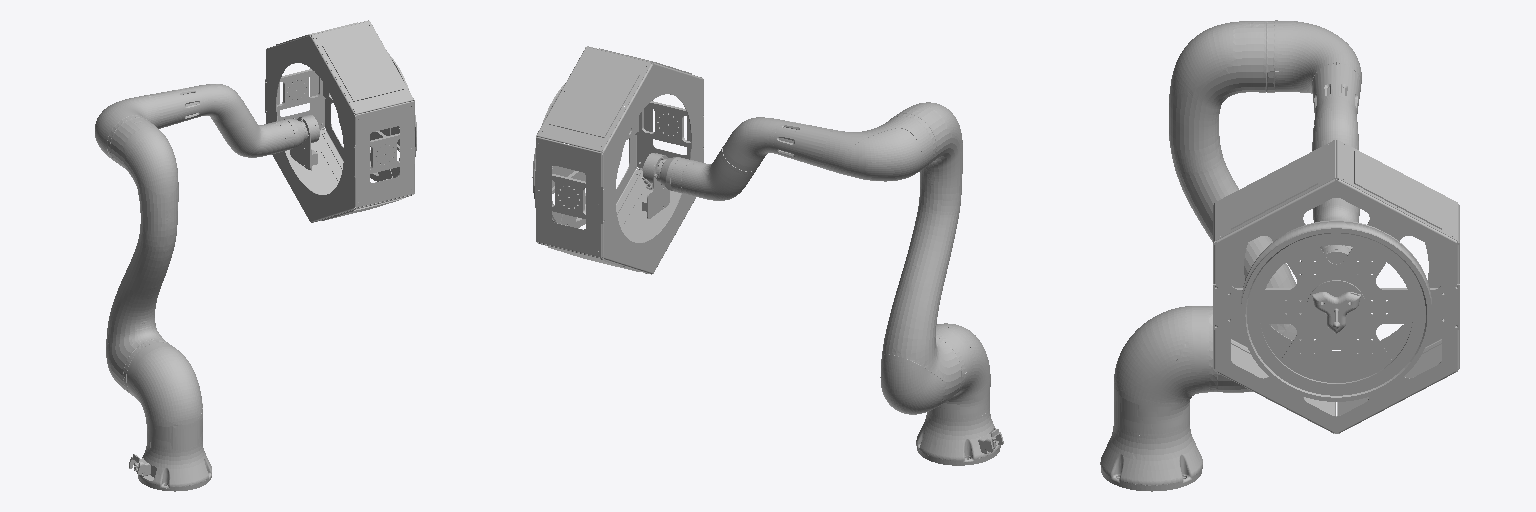
robot.urdf — yl102_sat_core:
<?xml version="1.0" encoding="utf-8"?>

<robot name="yl102_sat_core">
<link name="world"/>
  <link name="link0">

                      
    <inertial>
      <origin xyz="0.000247812 0.000247476 0.0505918" rpy="0 0 0" />
      <mass value="4.59375" />
      <inertia ixx="0.0152439" ixy="0.000200106" ixz="0.000124082" iyy="0.0273594" iyz="1.06874e-05" izz="0.0370589" />
    </inertial>
    <visual>
      <origin xyz="0 0 0" rpy="0 0 0" />
      <geometry>
        <mesh filename="meshes/link0.stl"    />
      </geometry>
      <material name="">
        <color rgba="0.75294 0.75294 0.75294 1" />
      </material>
    </visual>
    <collision>
      <origin xyz="0 0 0" rpy="0 0 0" />
      <geometry>
        <mesh filename="meshes/link0.stl"    />
      </geometry>
    </collision>
  </link>

  <link name="link1">
    <inertial>
    <origin xyz="0.000142015 0.0285074 0.119455" rpy="0 0 0" />
    <mass value="10.51657" />
    <inertia ixx="0.0551209" ixy="-5.13223e-05" ixz="-4.83089e-05" iyy="0.0494305" iyz="-0.0110939" izz="0.0363787" />
  </inertial>
    <visual>
      <origin xyz="0 0 0" rpy="0 0 0" />
      <geometry>
        <mesh filename="meshes/link1.stl"    />
      </geometry>
      <material name="">
        <color rgba="0.75294 0.75294 0.75294 1" />
      </material>
    </visual>
    <collision>
      <origin xyz="0 0 0" rpy="0 0 0" />
      <geometry>
        <mesh filename="meshes/link1.stl"    />
      </geometry>
    </collision>
  </link>

  <link name="link2">
<inertial>
  <origin xyz="0.297682 0.000392564 0.0575885" rpy="0 0 0" />
  <mass value="13.550371" />
  <inertia ixx="0.102354" ixy="0.147595" ixz="0.00104147" iyy="1.48599" iyz="-0.000372513" izz="1.43248" />
</inertial>
    <visual>
      <origin xyz="0 0 0" rpy="0 0 0" />
      <geometry>
        <mesh filename="meshes/link2.stl"    />
      </geometry>
      <material name="">
        <color rgba="0.75294 0.75294 0.75294 1" />
      </material>
    </visual>
    <collision>
      <origin xyz="0 0 0" rpy="0 0 0" />
      <geometry>
        <mesh filename="meshes/link2.stl"    />
      </geometry>
    </collision>
  </link>

  <link name="link3">

<inertial>
  <origin xyz="0.0320635 0.000171503 0.0829559" rpy="0 0 0" />
  <mass value="5.290133" />
  <inertia ixx="0.0153011" ixy="-0.00582277" ixz="2.85545e-05" iyy="0.022998" iyz="-2.03293e-05" izz="0.0180684" />
</inertial>
    <visual>
      <origin xyz="0 0 0" rpy="0 0 0" />
      <geometry>
        <mesh filename="meshes/link3.stl"    />
      </geometry>
      <material name="">
        <color rgba="0.75294 0.75294 0.75294 1" />
      </material>
    </visual>
    <collision>
      <origin xyz="0 0 0" rpy="0 0 0" />
      <geometry>
        <mesh filename="meshes/link3.stl"    />
      </geometry>
    </collision>
  </link>

  <link name="link4">
<inertial>
  <origin xyz="0.013664 -0.000984818 0.150329" rpy="0 0 0" />
  <mass value="3.595617" />
  <inertia ixx="0.0268371" ixy="-0.0043623" ixz="2.99902e-05" iyy="0.0282347" iyz="0.000149903" izz="0.00518421" />
</inertial>

    <visual>
      <origin xyz="0 0 0" rpy="0 0 0" />
      <geometry>
        <mesh filename="meshes/link4.stl"    />
      </geometry>
      <material name="">
        <color rgba="0.75294 0.75294 0.75294 1" />
      </material>
    </visual>
    <collision>
      <origin xyz="0 0 0" rpy="0 0 0" />
      <geometry>
        <mesh filename="meshes/link4.stl"    />
      </geometry>
    </collision>
  </link>

  <link name="link5">
<inertial>
  <origin xyz="0.015522 0.000368096 0.0840352" rpy="0 0 0" />
  <mass value="2.643843" />
  <inertia ixx="0.00606419" ixy="-0.0016915" ixz="-1.2174e-05" iyy="0.00720539" iyz="-2.18997e-05" izz="0.00353509" />
</inertial>
    <visual>
      <origin xyz="0 0 0" rpy="0 0 0" />
      <geometry>
        <mesh filename="meshes/link5.stl"    />
      </geometry>
      <material name="">
        <color rgba="0.75294 0.75294 0.75294 1" />
      </material>
    </visual>
    <collision>
      <origin xyz="0 0 0" rpy="0 0 0" />
      <geometry>
        <mesh filename="meshes/link5.stl"    />
      </geometry>
    </collision>
  </link>

  <link name="link6">
  <inertial>
    <origin xyz="0.000133705 -0.000192709 0.0334362" rpy="0 0 0" />
    <mass value="1.094456" />
    <inertia ixx="0.000502088" ixy="-4.44825e-07" ixz="2.32639e-07" iyy="0.000502074" iyz="-3.01736e-07" izz="0.000531034" />
  </inertial>
    <visual>
      <origin xyz="0 0 0" rpy="0 0 0" />
      <geometry>
        <mesh filename="meshes/link6.stl"    />
      </geometry>
      <material name="">
        <color rgba="0.75294 0.75294 0.75294 1" />
      </material>
    </visual>
    <collision>
      <origin xyz="0 0 0" rpy="0 0 0" />
      <geometry>
        <mesh filename="meshes/link6.stl"    />
      </geometry>
    </collision>
  </link>

 

  <link name="link_flange">
  <inertial>
    <origin xyz="-0.03225391 -0.0007543 0.02048268" rpy="0 0 0" />
    <mass value="0.71" />
    <inertia ixx="0.00052611" ixy="-0.00002865" ixz="0.00005824" iyy="0.00131947" iyz="0.00001746" izz="0.00166657" />
  </inertial>
    <visual>
      <origin xyz="0 0 0" rpy="0 0 0" />
      <geometry>
        <mesh filename="meshes/link_FT.stl"    />
      </geometry>
      <material name="">
        <color rgba="0.75294 0.75294 0.75294 1" />
      </material>
    </visual>
    <collision>
      <origin xyz="0 0 0" rpy="0 0 0" />
      <geometry>
        <mesh filename="meshes/link_FT.stl"    />
      </geometry>
    </collision>
  </link>

  <link name="link_ft">
  <inertial>
    <origin xyz="0 0 00" rpy="0 0 0" />
    <mass value="00" />
    <inertia ixx="0" ixy="0.0" ixz="0.0" iyy="0.0" iyz="0.0" izz="0.0" />
  </inertial>
  </link>

  <link name="link_core">
  <inertial>
    <origin xyz="-0.00 -0.00001028 0.11262145" rpy="0 0 0" />
    <mass value="1.97" />
    <inertia ixx="0.00420351" ixy="0.0" ixz="0.0" iyy="0.00420293" iyz="0.00000196" izz="0.00081619" />
  </inertial>
    <visual>
      <origin xyz="0 0 0" rpy="0 0 0" />
      <geometry>
        <mesh filename="meshes/link_CORE100.stl"    />
      </geometry>
      <material name="">
        <color rgba="0.75294 0.75294 0.75294 1" />
      </material>
    </visual>
    <collision>
      <origin xyz="0 0 0" rpy="0 0 0" />
      <geometry>
        <mesh filename="meshes/link_CORE100.stl"    />
      </geometry>
    </collision>
  </link>

  <link name="link_tcp_CoM">
  <inertial>
    <origin xyz="0 0 00" rpy="0 0 0" />
    <mass value="00" />
    <inertia ixx="0" ixy="0.0" ixz="0.0" iyy="0.0" iyz="0.0" izz="0.0" />
  </inertial>
  </link>

  <link name="link_sat">
  <inertial>
    <origin xyz="-0.00001548 -0.00000864 -0.04116212" rpy="0 0 0" />
    <mass value="6.066" />
    <inertia ixx="0.20623419" ixy="0.00000992" ixz="0.00000431" iyy="0.16710638" iyz="0.00000249" izz="0.29462577" />
  </inertial>
    <visual>
      <origin xyz="0 0 0" rpy="0 0 0" />
      <geometry>
        <mesh filename="meshes/link_sat_without_pannel.stl"    />
      </geometry>
      <material name="">
        <color rgba="0.75294 0.75294 0.75294 1" />
      </material>
    </visual>
    <collision>
      <origin xyz="0 0 0" rpy="0 0 0" />
      <geometry>
        <mesh filename="meshes/link_sat_without_pannel.stl"    />
      </geometry>
    </collision>
  </link>


<!-- joints -->
<joint name="world_fixed" type="fixed">
   <parent link="world" />
    <child link="link0" />
</joint>
  <joint name="joint0" type="revolute">
    <origin xyz="0 0 0.11475" rpy="0 0 0" />
    <parent link="link0" />
    <child link="link1" />
    <axis xyz="0 0 1" />
    <limit
      lower="-3.141592"
      upper="3.141592"
      effort="400"
      velocity="3" />
  </joint>

  <joint name="joint1" type="revolute">
    <origin xyz="0 0.11975 0.1639" rpy="0  -1.570796327    -1.570796327" />
    <parent link="link1" />
    <child link="link2" />
    <axis xyz="0 0 1" />
    <limit
      upper="4.712388"
      lower="-1.570796"
      effort="400"
      velocity="2.5" />
  </joint>

  <joint name="joint2" type="revolute">
    <origin xyz="0.674 0 0.13729" rpy="0 0 1.570796327" />
    <parent link="link2" />
    <child link="link3" />
    <axis xyz="0 0 1" />
    <limit
      lower="-3.141592"
      upper="3.141592"
      effort="100"
      velocity="2.6179938779914944" />
  </joint>

  <joint name="joint3" type="revolute">
    <origin xyz="0.14461 0.0 0.12844" rpy="1.570796327 0 1.570796327 " />
    <parent link="link3" />
    <child link="link4" />
    <axis xyz="0 0 1" />
    <limit
      lower="-3.141592"
      upper="3.141592"
      effort="49"
      velocity="2.6179938779914944" />
  </joint>

  <joint name="joint4" type="revolute">
  <!-- 0      1.0471975511966   -3.14159265358979 -->
    <origin xyz="0.08141 0 0.26886" rpy="  3.14159265358979      -2.0943951023932   0" />
    <parent link="link4" />
    <child link="link5" />
    <axis xyz="0 0 1" />
    <limit
      lower="-3.141592"
      upper="3.141592"
      effort="54.88"
      velocity="3.141592653589793" />
  </joint>

  <joint name="fixed5" type="fixed">
    <origin xyz="0.08259 0 0.15411" rpy="0  1.0471975511966  0" />
    <parent link="link5" />
    <child link="link6" />
  </joint>

 
  <joint name="flange_fixed" type="fixed">
    <origin xyz="0 0 0.07385" rpy="0 0 0" />
    <parent link="link6" />
    <child link="link_flange" />
    <axis xyz="0 0 0" />
  </joint>

  <joint name="ft_fixed" type="fixed">
    <origin xyz="0 0 0.0312" rpy="0 0 0" />
    <parent link="link_flange" />
    <child link="link_ft" />
    <axis xyz="0 0 0" />
  </joint>

  <joint name="core_fixed" type="fixed">
    <origin xyz="0 0 0.01" rpy="0 0 0" />
    <parent link="link_ft" />
    <child link="link_core" />
    <axis xyz="0 0 0" />
  </joint>
  
  <joint name="joint5" type="revolute">
    <origin xyz="0 0 0.1765" rpy="0 0 0" />
    <parent link="link_core" />
    <child link="link_sat" />
    <axis xyz="0 0 1" />
    <limit
      lower="-3.141592"
      upper="3.141592"
      effort="54.88"
      velocity="3.141592653589793" />    
  </joint>

  <joint name="tcp_CoM_fixed" type="fixed">
    <origin xyz="-0.00001166 -0.00000932 -0.04673098" rpy="0 0 0" />
    <parent link="link_sat" />
    <child link="link_tcp_CoM" />
    <axis xyz="0 0 0" />
  </joint>
</robot>

--- What the picture shows (computed from the rendered views, not written in the file) ---
Views: 3 orthographic renders of the robot side by side, from view 1: azimuth 30°, elevation 25°; view 2: azimuth 150°, elevation 25°; view 3: azimuth 270°, elevation 25°.
Model yl102_sat_core with 13 links and 12 joints (6 revolute, 6 fixed), rooted at world, posed all joints at 0.
Links seen in each view (by area): view 1: link_sat, link2, link1, link4, link0, link5, link3, link_flange, link6; view 2: link_sat, link2, link3, link4, link0, link1, link5, link_flange, link6; view 3: link_sat, link2, link1, link0, link3, link4, link5.
Boxes of the visible links, x1,y1,x2,y2 form: link_sat: [265, 20, 416, 222]; link2: [106, 115, 178, 397]; link1: [127, 342, 202, 450]; link4: [150, 84, 248, 131]; link0: [129, 441, 211, 491]; link5: [218, 111, 285, 157]; link3: [95, 95, 159, 160]; link_flange: [290, 115, 319, 170]; link6: [276, 119, 305, 150]; link_sat: [532, 46, 703, 274]; link2: [880, 102, 965, 414]; link3: [822, 116, 932, 181]; link4: [723, 117, 834, 171]; link0: [916, 409, 1003, 465]; link1: [929, 323, 990, 419]; link5: [681, 147, 756, 200]; link_flange: [641, 153, 669, 218]; link6: [658, 157, 692, 194]; link_sat: [1213, 140, 1459, 433]; link2: [1169, 21, 1301, 392]; link1: [1114, 306, 1208, 435]; link0: [1100, 422, 1202, 491]; link3: [1275, 20, 1361, 93]; link4: [1312, 63, 1360, 150]; link5: [1313, 198, 1359, 222].
Size in the robot's own frame: 1.09 by 0.7496 by 1.07 metres.
Meshes: 10 distinct files referenced, 9 mesh visuals loaded (9 binary STL); not drawn: 1 (reference not matched to a file when rendering).
